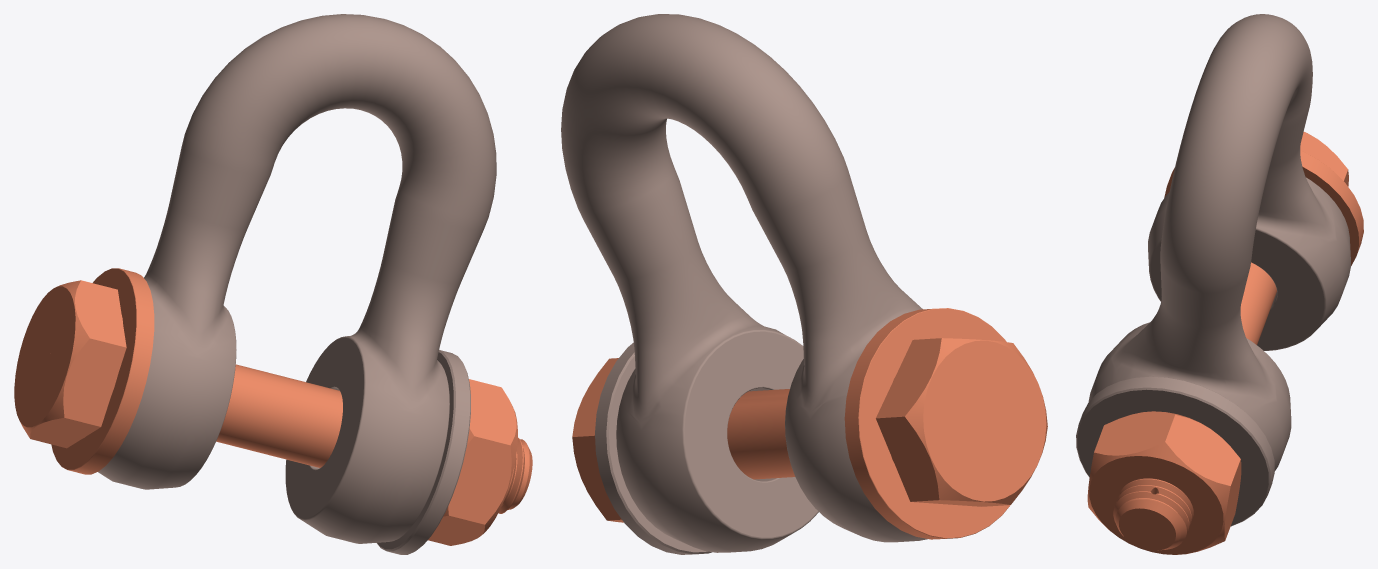
3 views of the same model, side by side, from view 1: azimuth 30°, elevation 25°; view 2: azimuth 150°, elevation 25°; view 3: azimuth 270°, elevation 25° (orthographic). The views are drawn at different scales.
Parts seen in each view (by area): view 1: Nut; view 2: Nut; view 3: Nut.
Boxes of the visible parts, x1,y1,x2,y2 form: Nut: (14,14,532,554); Nut: (561,14,1047,554); Nut: (1076,14,1363,554).
Bounding box in the file's own units: 1.16 × 1.25 × 0.6666.
